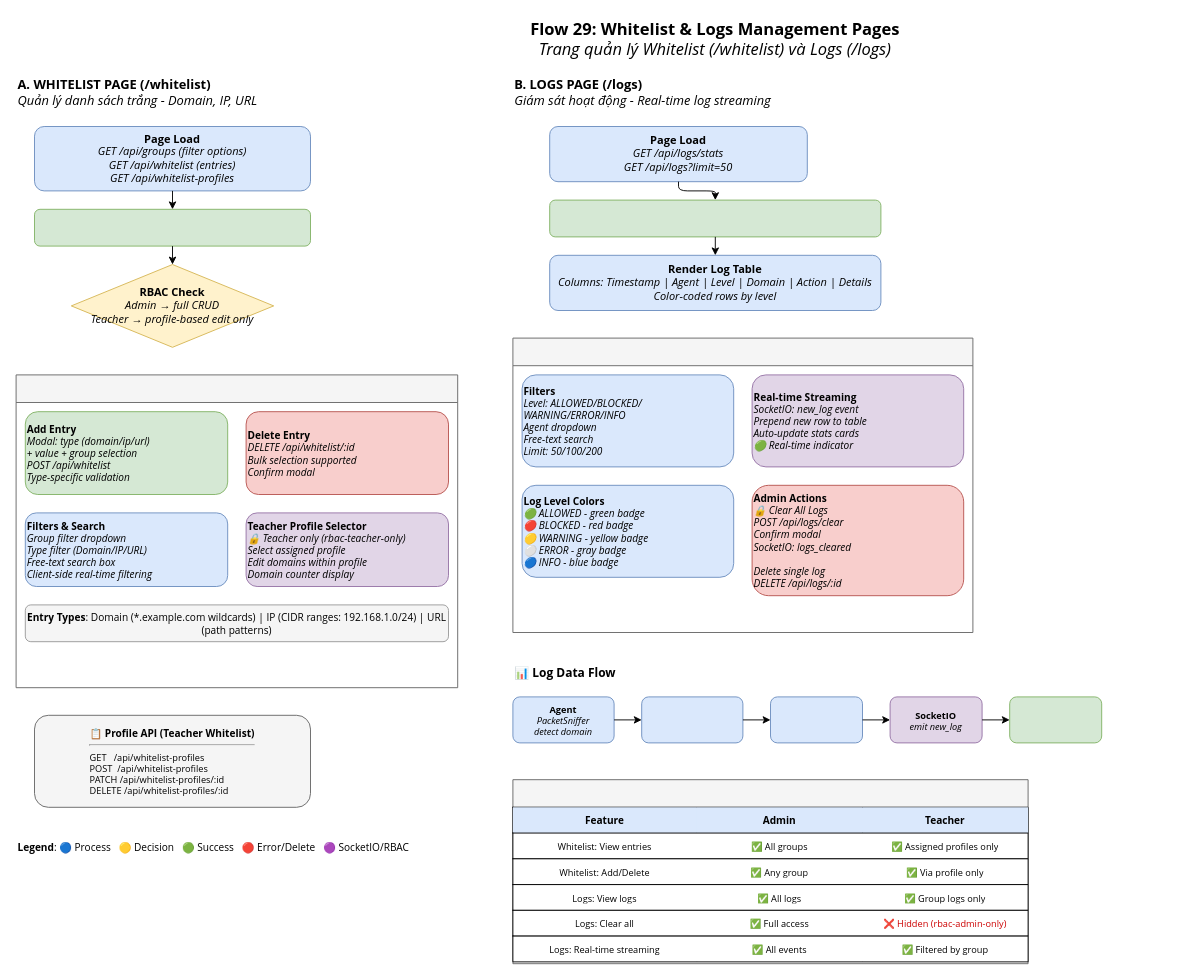
Some shapes in this 1191 by 980 pixel diagram are drawn without their labels. Here are the shapes that lost their labels. From the top down, the box of each, then its label:
(34, 208, 310, 246): Stats Cards (4) Total Items | Active | Domains | IPs
(549, 199, 881, 237): Stats Cards (4) Total | Allowed 🟢 | Blocked 🔴 | Warnings 🟡
(512, 337, 973, 632): Logs Features
(15, 374, 458, 688): Whitelist Features
(641, 696, 743, 743): LogSender Queue → batch POST /api/logs
(770, 696, 862, 743): Server Normalize Save MongoDB
(1009, 696, 1102, 743): Logs Page Prepend row
(512, 779, 1028, 964): 🔒 RBAC Comparison: Whitelist vs Logs
